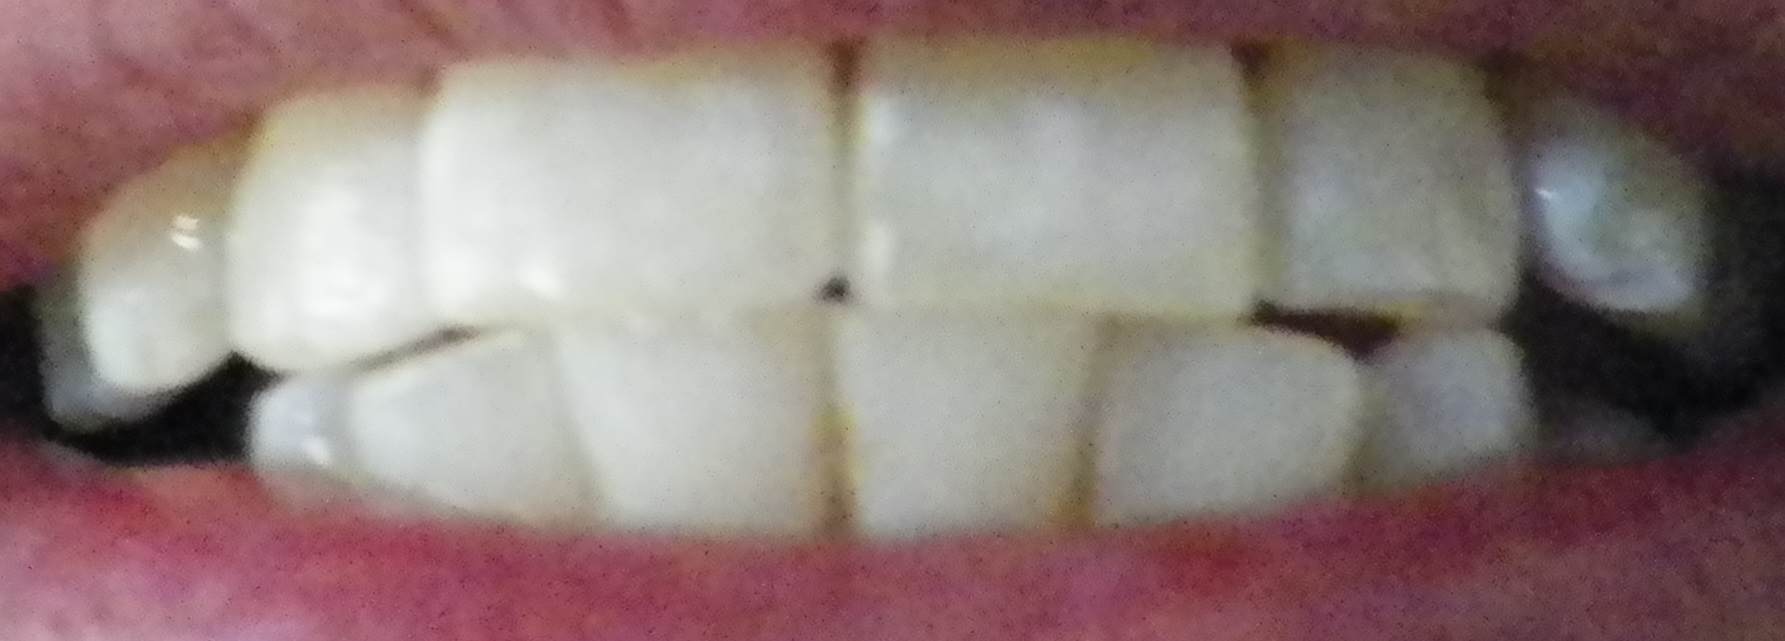boca: (71, 31, 1718, 521)
